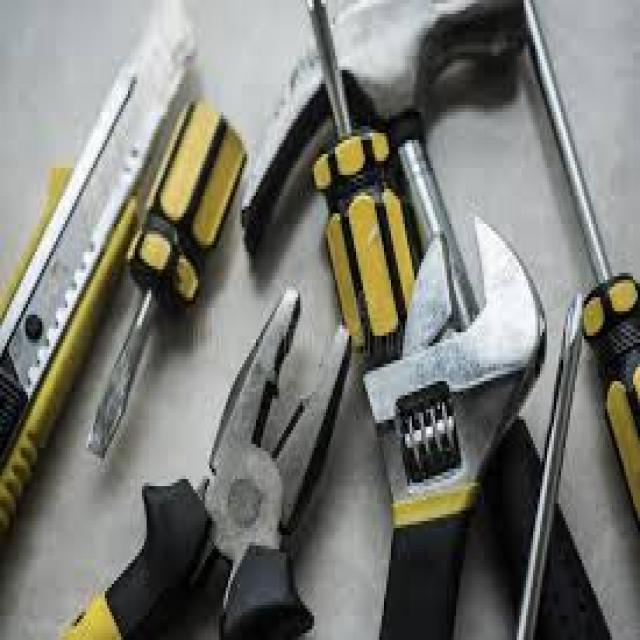pliers: (85, 275, 356, 640)
screwdriver: (78, 85, 254, 468), (516, 0, 640, 508), (290, 0, 436, 374)
wrench: (362, 206, 552, 632)
